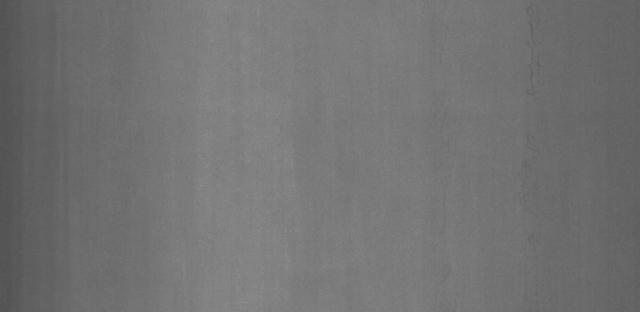silk_spot: (517, 30, 579, 258)
